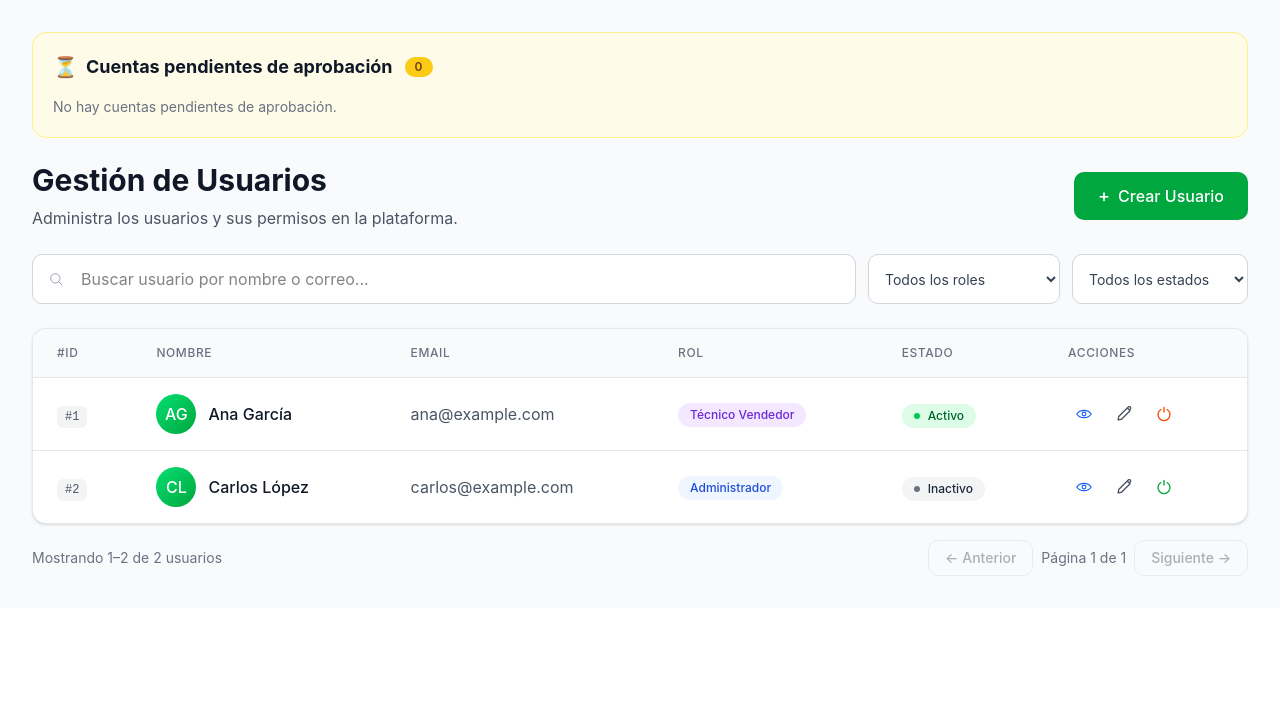
GestionUsuariosPanel › closes detail modal on close button
This screenshot has width=1280, height=720.
Click the 1st button with test id "view-user-button": point(1084, 414) [1068, 398, 1100, 430]
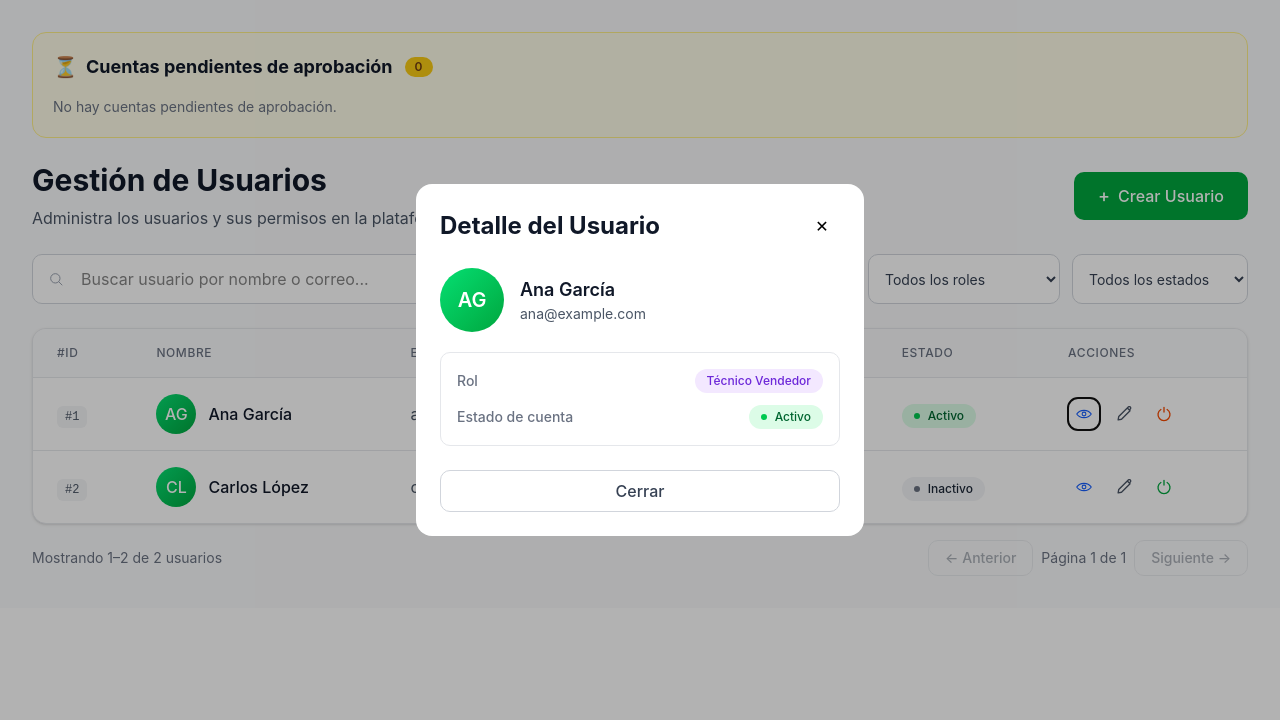
Result: the element with test id "user-detail-modal" is shown at [416, 184, 864, 536]
Click the button named "Cerrar detalle": point(822, 226) [804, 208, 840, 244]
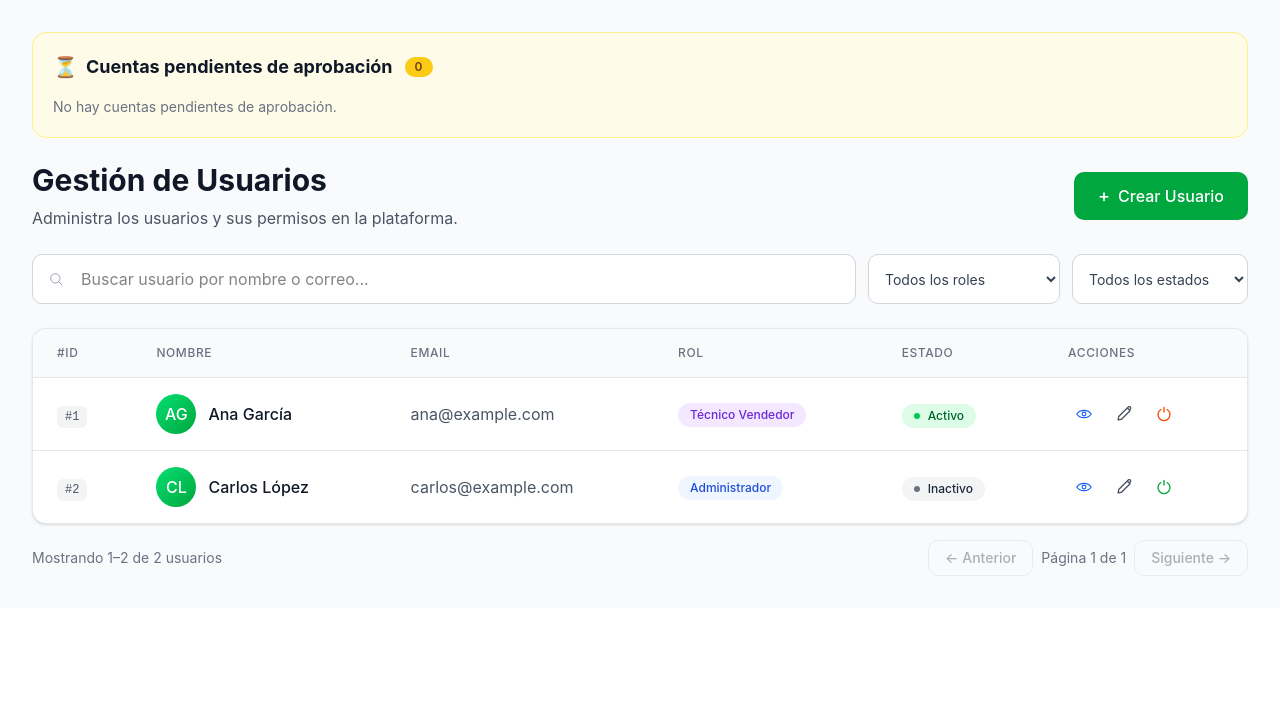
Result: the element with test id "user-detail-modal" is gone
